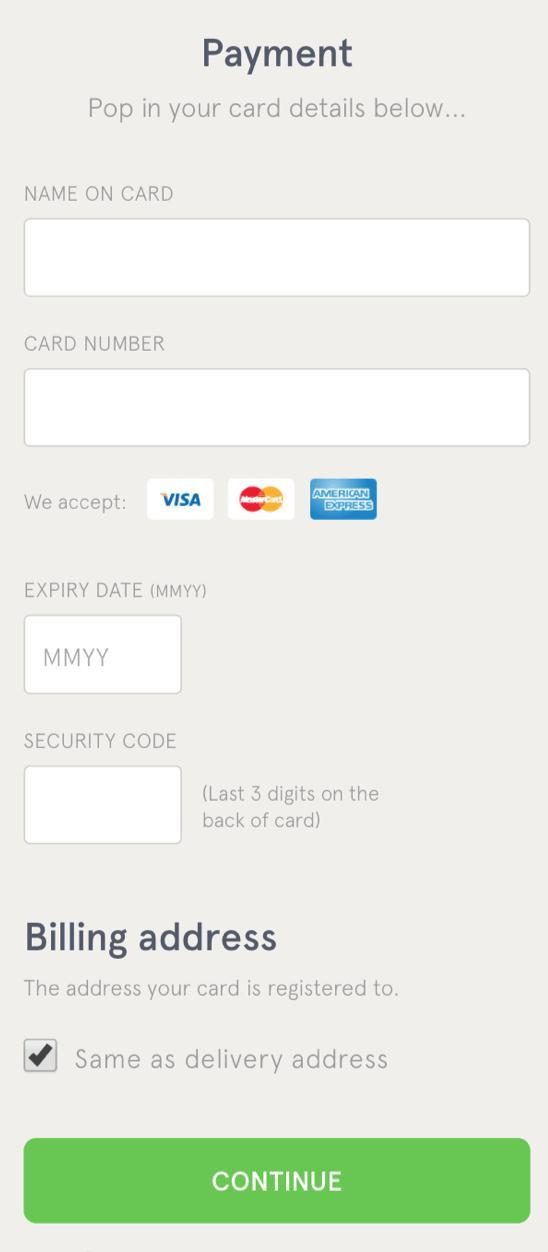button: (25, 1135, 535, 1226)
checkbox: (23, 1039, 60, 1073)
icon: (309, 477, 380, 522), (148, 477, 215, 521), (229, 479, 296, 522)
input: (24, 218, 531, 297), (25, 370, 532, 447), (23, 611, 182, 698), (25, 766, 186, 848)
label: (20, 574, 211, 610), (20, 725, 182, 758), (21, 329, 171, 364), (22, 179, 178, 207)
